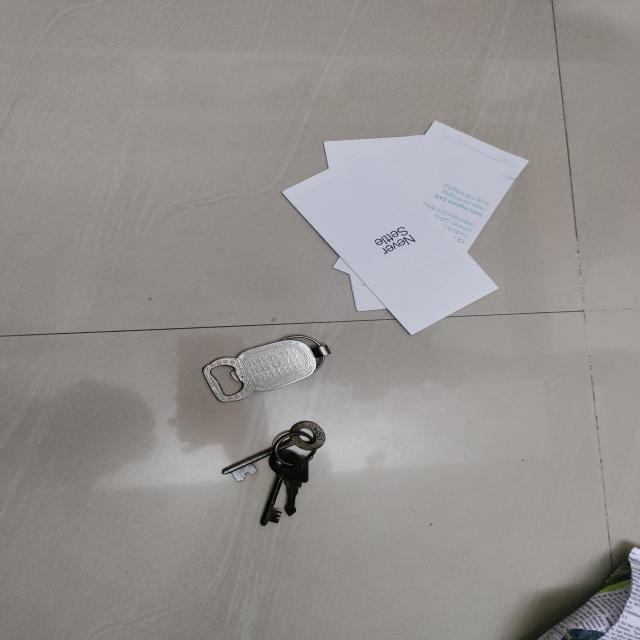metal: (223, 420, 326, 526), (201, 336, 331, 403)
paper: (280, 120, 528, 334)
